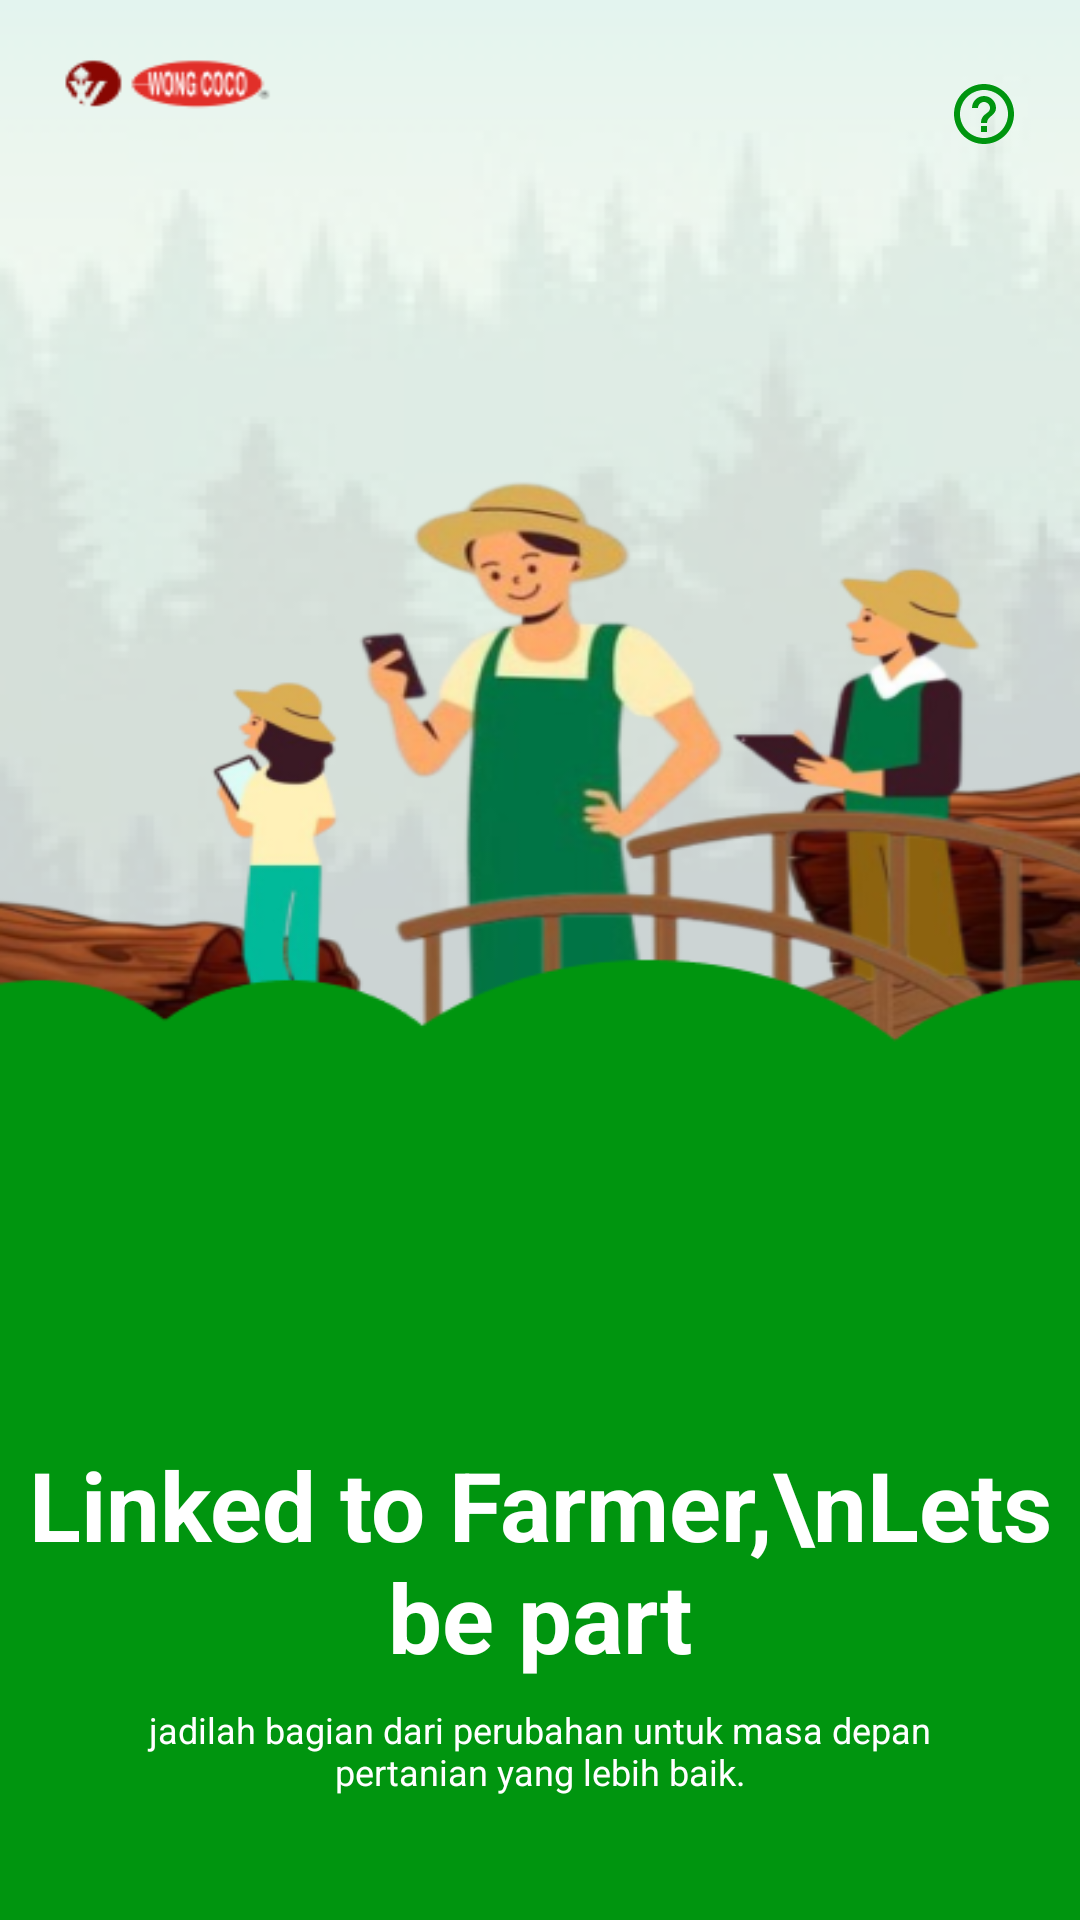

Icon click points for this 1080 x 1920 phone screenshot, format point (x, y):
Help Icon: point (984, 114)
